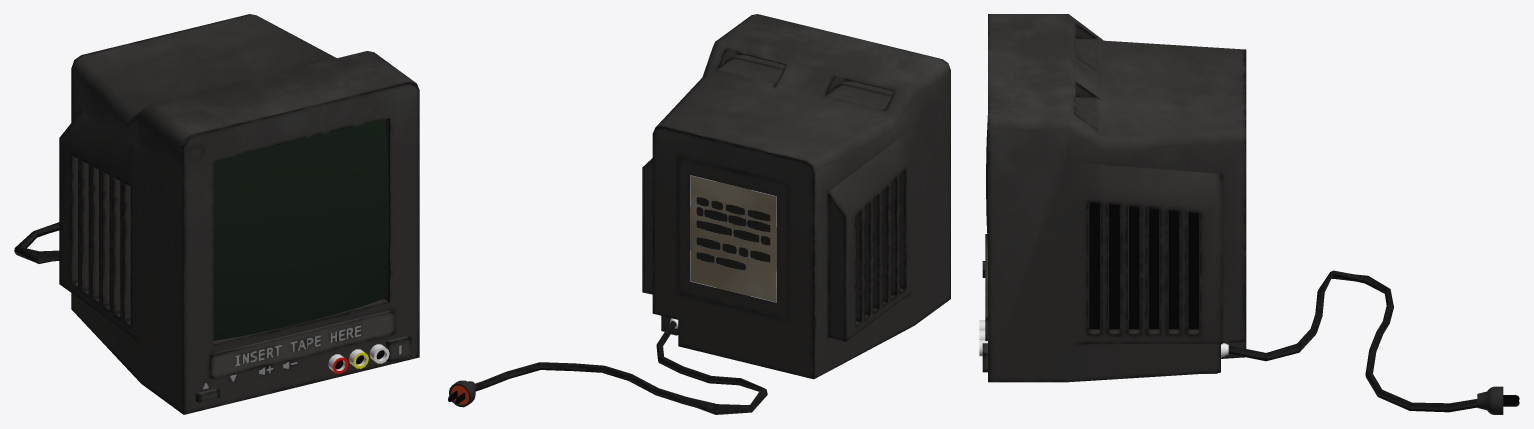
Rendered from CRTTVHS.gltf.
3 renders of one model, left to right at view 1: azimuth 30°, elevation 25°; view 2: azimuth 150°, elevation 25°; view 3: azimuth 270°, elevation 25°, orthographic. The views are drawn at different scales.
Visible parts, largest first — view 1: CRTVHSTV; view 2: CRTVHSTV; view 3: CRTVHSTV.
Part boxes in pixels (x1=…): CRTVHSTV: x1=14, y1=14, x2=419, y2=414; CRTVHSTV: x1=448, y1=14, x2=950, y2=414; CRTVHSTV: x1=979, y1=14, x2=1519, y2=414.
Bounding box in the file's own units: 0.6829 × 0.5801 × 1.07.
Materials: 2 (1 with a texture image).
